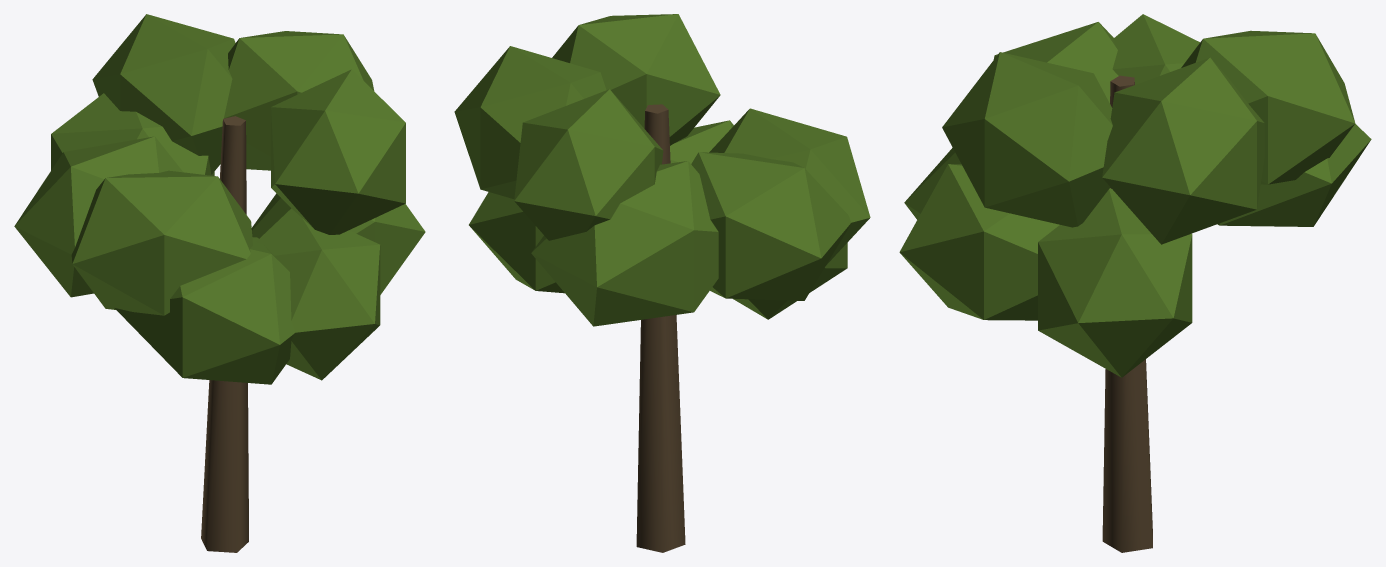
3 renders of one model, left to right at view 1: azimuth 30°, elevation 25°; view 2: azimuth 150°, elevation 25°; view 3: azimuth 270°, elevation 25°, orthographic. The views are drawn at different scales.
Visible parts, largest first — view 1: oak-leaf; view 2: oak-leaf; view 3: oak-leaf.
Boxes of the visible parts, x1=… form: oak-leaf: x1=14, y1=14, x2=425, y2=552; oak-leaf: x1=454, y1=14, x2=870, y2=552; oak-leaf: x1=899, y1=14, x2=1371, y2=552.
Bounding box in the file's own units: 6.9 × 8.5 × 7.1.
